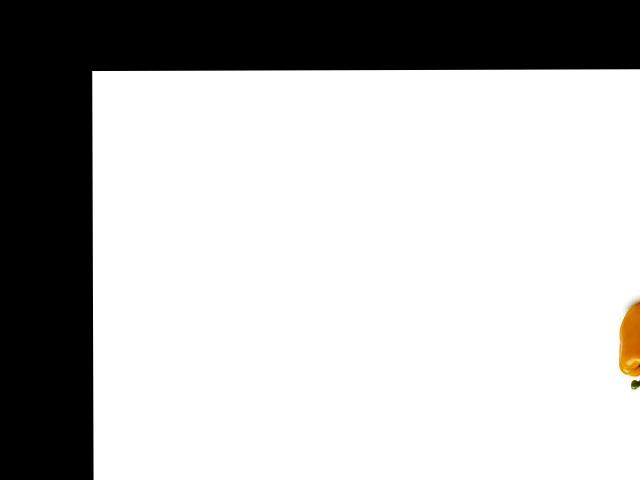bell_pepper: (610, 300, 640, 393)
